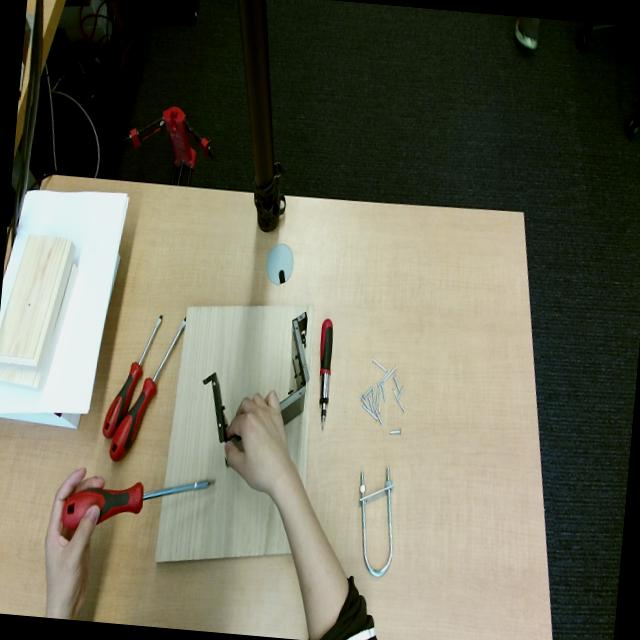screwdriver: (109, 319, 185, 461), (60, 480, 213, 530), (102, 315, 162, 438), (319, 318, 333, 430)
